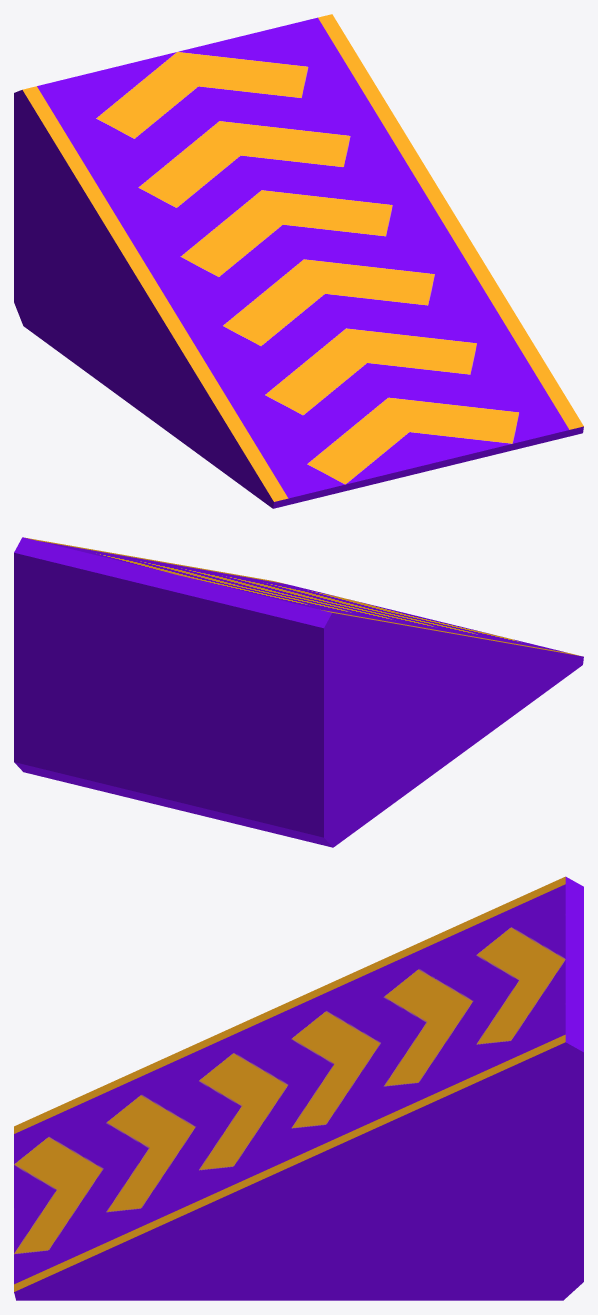
Rendered from BoosterRamp.glb.
The picture shows the model from 3 angles, top to bottom: view 1: azimuth 30°, elevation 25°; view 2: azimuth 150°, elevation 25°; view 3: azimuth 270°, elevation 25°; orthographic projection. The views are drawn at different scales.
Visible parts, largest first — view 1: Obstacle_Booster_02; view 2: Obstacle_Booster_02; view 3: Obstacle_Booster_02.
Part boxes in pixels (x1,y1,x2,y2): Obstacle_Booster_02: (14, 14, 583, 508); Obstacle_Booster_02: (14, 537, 583, 847); Obstacle_Booster_02: (14, 876, 583, 1300).
Bounding box in the file's own units: 1 × 0.7266 × 1.45.
1 material, 1 textured.
